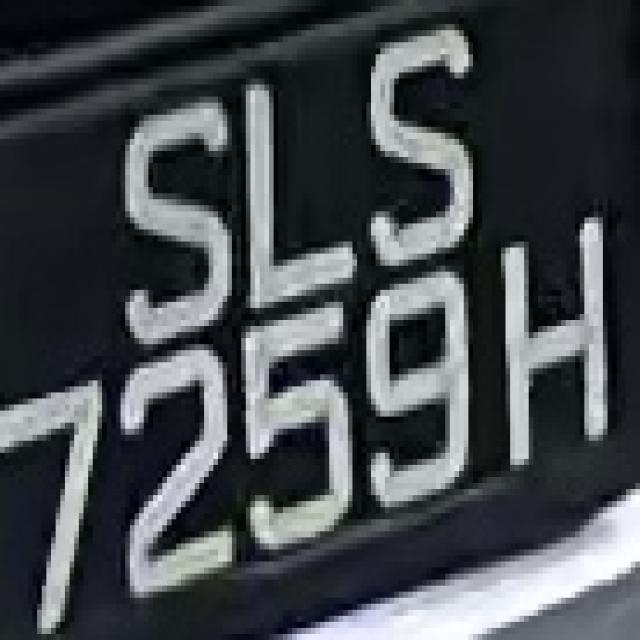2: (93, 368, 250, 610)
5: (236, 296, 352, 555)
7: (0, 362, 121, 640)
9: (338, 284, 482, 495)
H: (501, 205, 621, 483)
L: (222, 66, 366, 302)
S: (102, 97, 232, 350), (357, 36, 482, 272)
